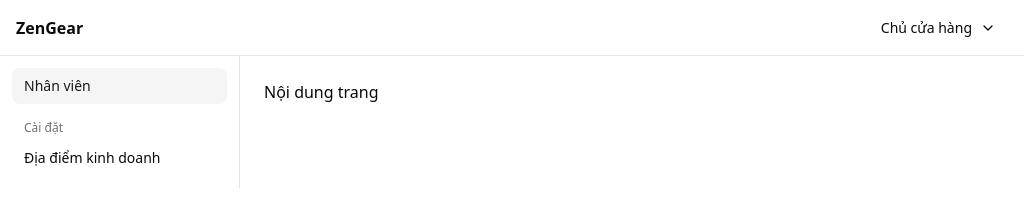
Test: the layout › offers the error state when the sign-out fails
What coordinates should you click on to do the following:
click the button "Chủ cửa hàng"
I would click on:
 (938, 28)
Its box is [869,10,1008,46].
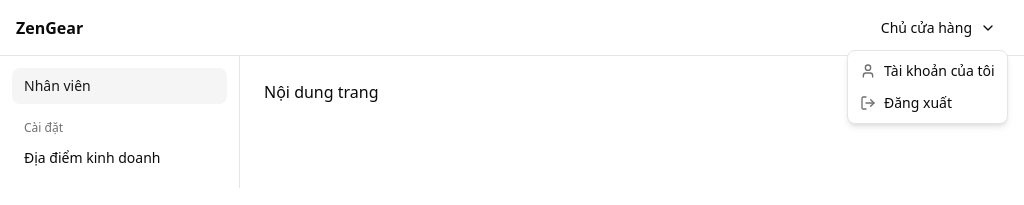
What coordinates should you click on to do the following:
click the menu item "Đăng xuất"
I would click on:
 (906, 102)
Its box is [860,93,952,112].
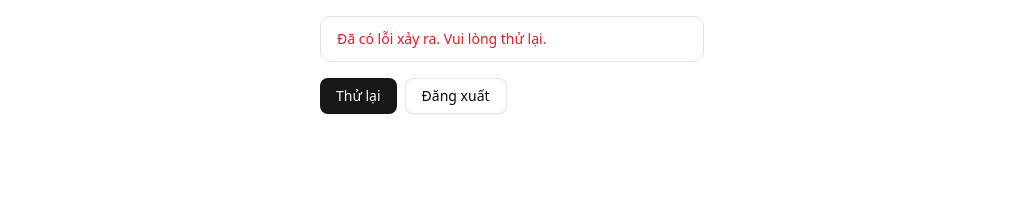
Now the message shows "Đã có lỗi xảy ra.", box [337,29,546,48]
